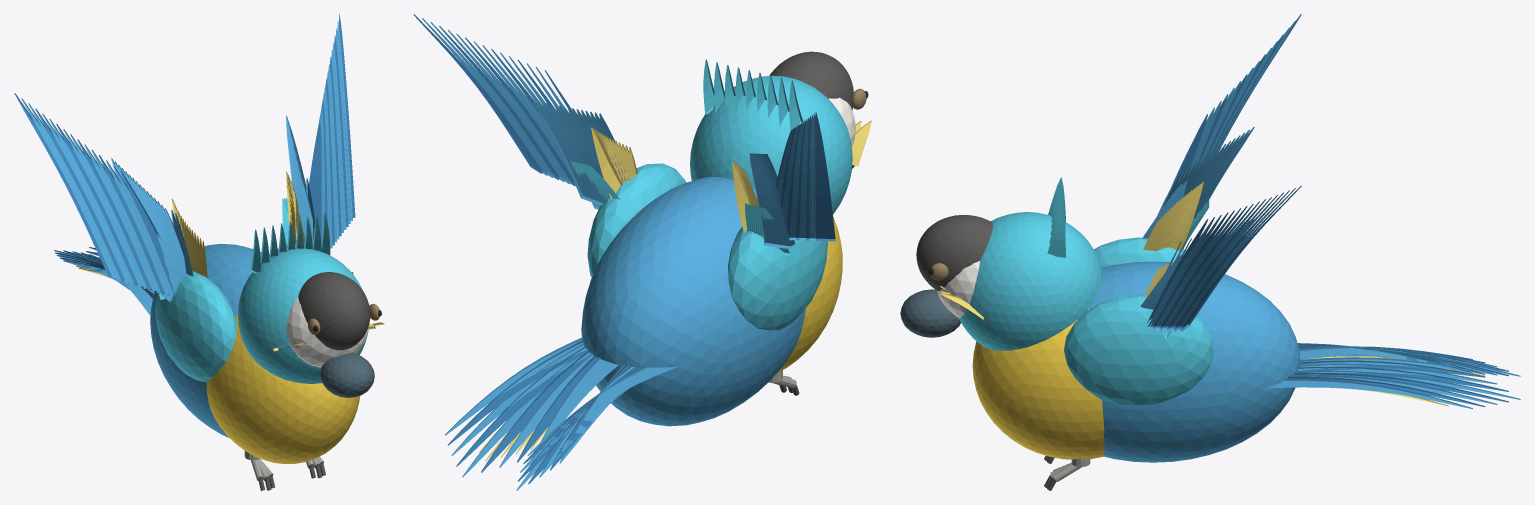
The model's file is animal-macaw-001.glb.
The picture shows the model from 3 angles, left to right: view 1: azimuth 30°, elevation 25°; view 2: azimuth 150°, elevation 25°; view 3: azimuth 270°, elevation 25°; orthographic projection. The views are drawn at different scales.
Parts seen in each view (by area): view 1: chest, head, wing_L_shoulder, body, beak_upper, beak_lower, facial_patch, wing_R_primary_0, wing_L_blue_2, wing_L_primary_15, wing_L_primary_14, wing_L_primary_13 (+26 smaller); view 2: body, head, wing_L_shoulder, wing_R_shoulder, chest, beak_upper, wing_L_primary_15, wing_L_blue_17, tail_1_8, tail_1_0, tail_-1_8, wing_R_blue_17 (+18 smaller); view 3: body, head, wing_R_shoulder, chest, beak_upper, beak_lower, wing_L_shoulder, tail_1_8, facial_patch, tail_1_0, tail_1_1, tail_1_2 (+7 smaller).
Part boxes in pixels (x1=…): chest: x1=206, y1=314, x2=360, y2=464; head: x1=238, y1=248, x2=367, y2=383; wing_L_shoulder: x1=155, y1=271, x2=236, y2=382; body: x1=150, y1=243, x2=261, y2=437; beak_upper: x1=298, y1=272, x2=370, y2=350; beak_lower: x1=320, y1=353, x2=374, y2=397; facial_patch: x1=286, y1=297, x2=369, y2=367; wing_R_primary_0: x1=309, y1=122, x2=321, y2=241; wing_L_blue_2: x1=164, y1=208, x2=186, y2=293; wing_L_primary_15: x1=14, y1=93, x2=111, y2=277; wing_L_primary_14: x1=21, y1=98, x2=116, y2=279; wing_L_primary_13: x1=28, y1=103, x2=120, y2=280; body: x1=581, y1=176, x2=805, y2=426; head: x1=690, y1=75, x2=852, y2=213; wing_L_shoulder: x1=728, y1=227, x2=827, y2=330; wing_R_shoulder: x1=587, y1=163, x2=686, y2=277; chest: x1=777, y1=216, x2=842, y2=373; beak_upper: x1=769, y1=51, x2=853, y2=110; wing_L_primary_15: x1=814, y1=112, x2=835, y2=241; wing_L_blue_17: x1=749, y1=153, x2=790, y2=248; tail_1_8: x1=445, y1=337, x2=586, y2=435; tail_1_0: x1=534, y1=356, x2=618, y2=454; tail_-1_8: x1=527, y1=365, x2=678, y2=455; wing_R_blue_17: x1=533, y1=100, x2=602, y2=205; body: x1=1089, y1=261, x2=1300, y2=462; head: x1=959, y1=212, x2=1102, y2=350; wing_R_shoulder: x1=1064, y1=295, x2=1213, y2=405; chest: x1=972, y1=309, x2=1104, y2=459; beak_upper: x1=916, y1=215, x2=992, y2=291; beak_lower: x1=900, y1=289, x2=960, y2=337; wing_L_shoulder: x1=1094, y1=237, x2=1185, y2=267; tail_1_8: x1=1267, y1=378, x2=1472, y2=409; facial_patch: x1=937, y1=261, x2=979, y2=317; tail_1_0: x1=1297, y1=357, x2=1472, y2=370; tail_1_1: x1=1296, y1=360, x2=1485, y2=377; tail_1_2: x1=1299, y1=363, x2=1497, y2=384.
Bounding box in the file's own units: 2.82 × 2.86 × 4.29.
